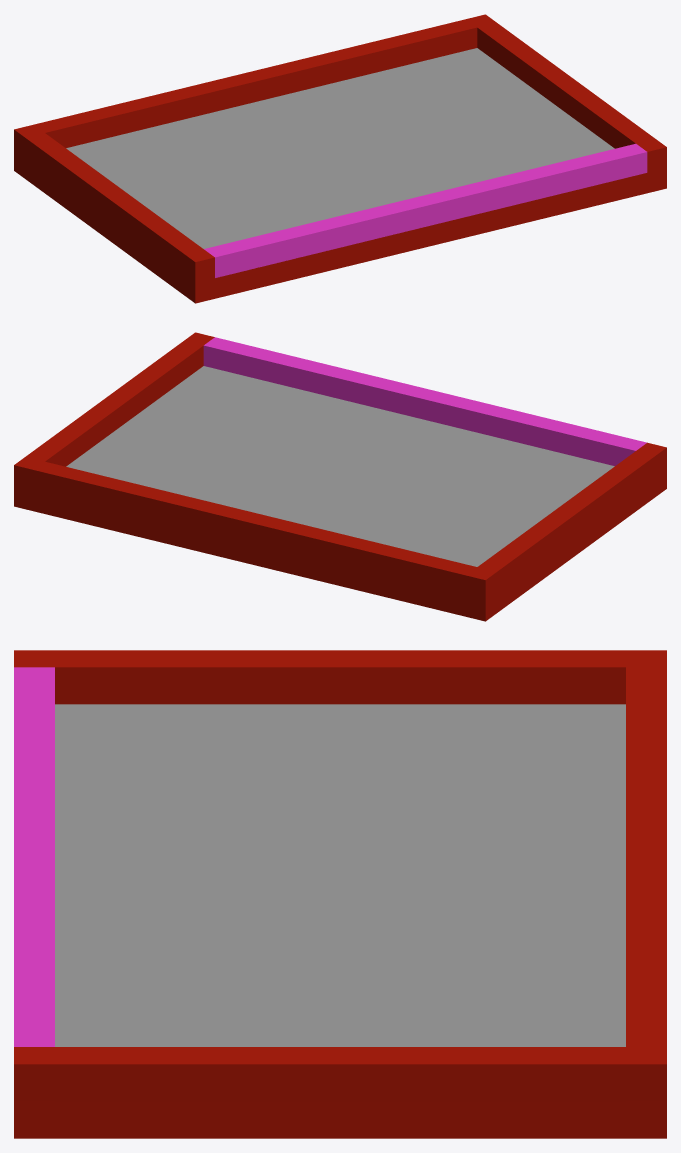
The model's file is arch_roof.glb.
3 renders of one model, top to bottom at view 1: azimuth 30°, elevation 25°; view 2: azimuth 150°, elevation 25°; view 3: azimuth 270°, elevation 25°, orthographic. The views are drawn at different scales.
Parts seen in each view (by area): view 1: mesh, opening-front, opening-left, opening-right; view 2: mesh, opening-front, opening-left, opening-right; view 3: mesh, opening-left, opening-right, opening-front.
Boxes of the visible parts, x1,y1,x2,y2 form: mesh: (14, 14, 666, 303); opening-front: (204, 143, 647, 277); opening-left: (25, 133, 203, 274); opening-right: (477, 22, 655, 148); mesh: (14, 332, 666, 621); opening-front: (203, 337, 646, 465); opening-left: (477, 451, 655, 592); opening-right: (25, 340, 203, 466); mesh: (14, 650, 666, 1138); opening-left: (55, 650, 625, 704); opening-right: (55, 1047, 625, 1101); opening-front: (14, 667, 54, 1046).
Size of the model in its own units: 12.01 by 1.01 by 8.
